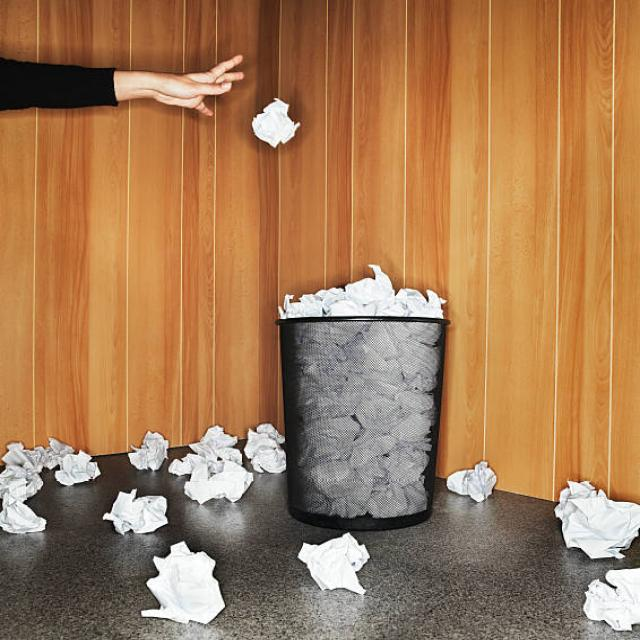paper: (7, 126, 640, 620)
